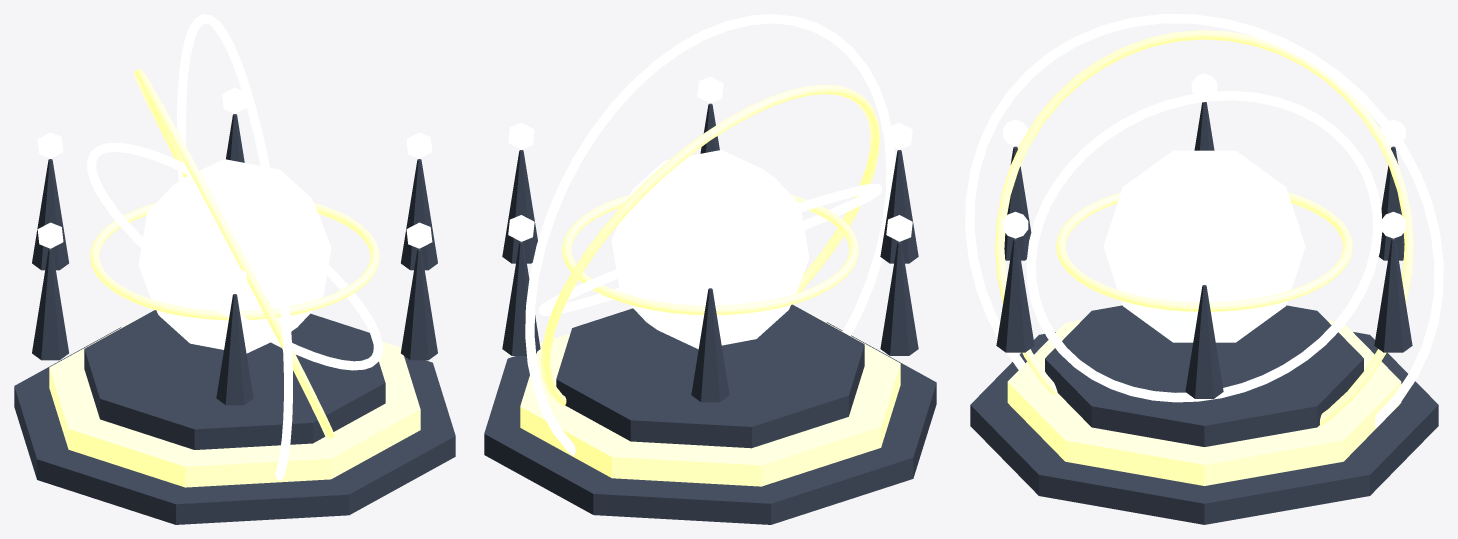
File: gpu-blender-v1.glb
3 views of the same model, side by side, from view 1: azimuth 30°, elevation 25°; view 2: azimuth 150°, elevation 25°; view 3: azimuth 270°, elevation 25° (orthographic). The views are drawn at different scales.
Parts seen in each view (by area): view 1: Cylinder.002, Cylinder, SovereignCore_zoth-civilization, Cylinder.001, Torus.003, Torus.001, Torus.002, Torus, Cone.004, Cone.003, Cone.005, Cone.002 (+7 smaller); view 2: Cylinder.002, SovereignCore_zoth-civilization, Cylinder, Cylinder.001, Torus.003, Torus.002, Torus.001, Torus, Cone.002, Cone.003, Cone.001, Cone.004 (+7 smaller); view 3: SovereignCore_zoth-civilization, Cylinder.002, Cylinder, Cylinder.001, Torus.003, Torus.001, Torus.002, Torus, Cone.001, Cone.005, Cone, Cone.004 (+3 smaller).
Part boxes in pixels (x1,y1,x2,y2): Cylinder.002: (84,310,385,449); Cylinder: (14,327,455,524); SovereignCore_zoth-civilization: (138,159,331,353); Cylinder.001: (49,318,420,487); Torus.003: (177,14,292,480); Torus.001: (87,142,382,370); Torus.002: (134,69,334,438); Torus: (90,203,379,320); Cone.004: (216,294,253,405); Cone.003: (32,249,68,360); Cone.005: (401,249,437,360); Cone.002: (32,159,68,270); Cylinder.002: (556,304,864,448); SovereignCore_zoth-civilization: (611,150,809,349); Cylinder: (484,322,936,524); Cylinder.001: (520,313,900,486); Torus.003: (525,14,895,455); Torus.002: (541,84,879,406); Torus.001: (539,183,881,315); Torus: (562,195,858,315); Cone.002: (691,288,729,402); Cone.003: (880,242,918,355); Cone.001: (502,242,540,355); Cone.004: (880,150,918,263); SovereignCore_zoth-civilization: (1103,150,1305,342); Cylinder.002: (1045,305,1363,446); Cylinder: (970,332,1438,524); Cylinder.001: (1007,320,1401,485); Torus.003: (965,14,1443,427); Torus.001: (1026,91,1382,402); Torus.002: (995,30,1413,426); Torus: (1056,192,1352,311); Cone.001: (1374,239,1412,352); Cone.005: (996,239,1034,352); Cone: (1185,285,1223,398); Cone.004: (1004,146,1031,260).
Size of the model in its own units: 4.41 by 4.7 by 4.49.
